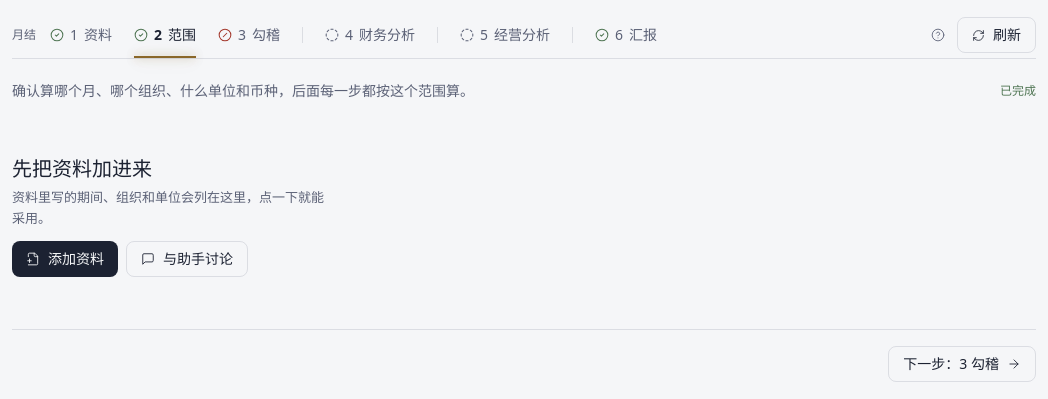
Test: every step: its purpose on top, 本期不做, 未经月结勾稽 and 下一步 › says what the step is for, and only the steps after 范围 can be left out this period
expect the text "确认算哪个月、哪个组织、什么单位和币种，后面每一步都按这个范围算。" is shown: met, box [12,79,474,103]
expect the button "本期不做" is not shown: met
Click the button "下一步：3 勾稽" at (962, 364), box [888,346,1036,382]
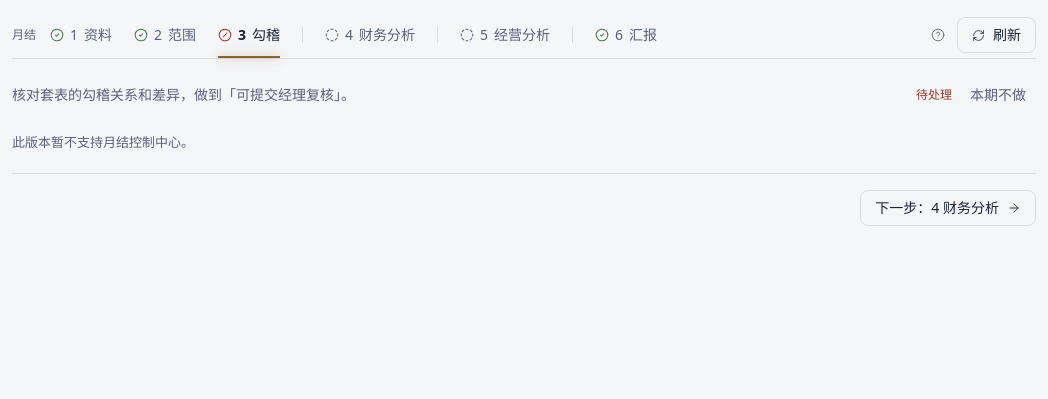
expect the text "核对套表的勾稽关系和差异，做到「可提交经理复核」。" is shown: met, box [12,83,355,107]
